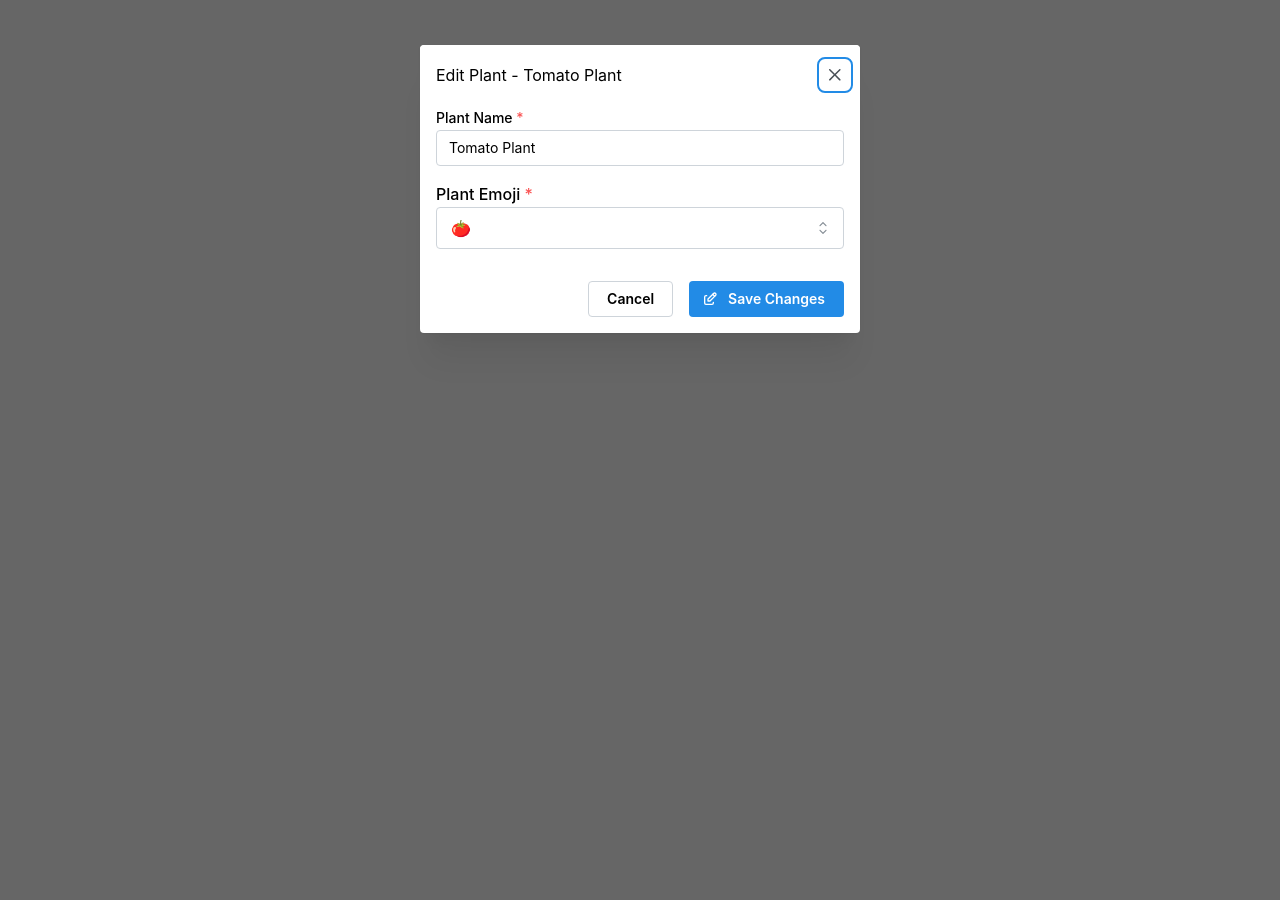
Test: PlantEditModal Component › Form Interaction › updates plant emoji from dropdown
Click the field with placeholder "Choose an emoji".
click(640, 228)  # box x1=436 y1=207 x2=844 y2=249
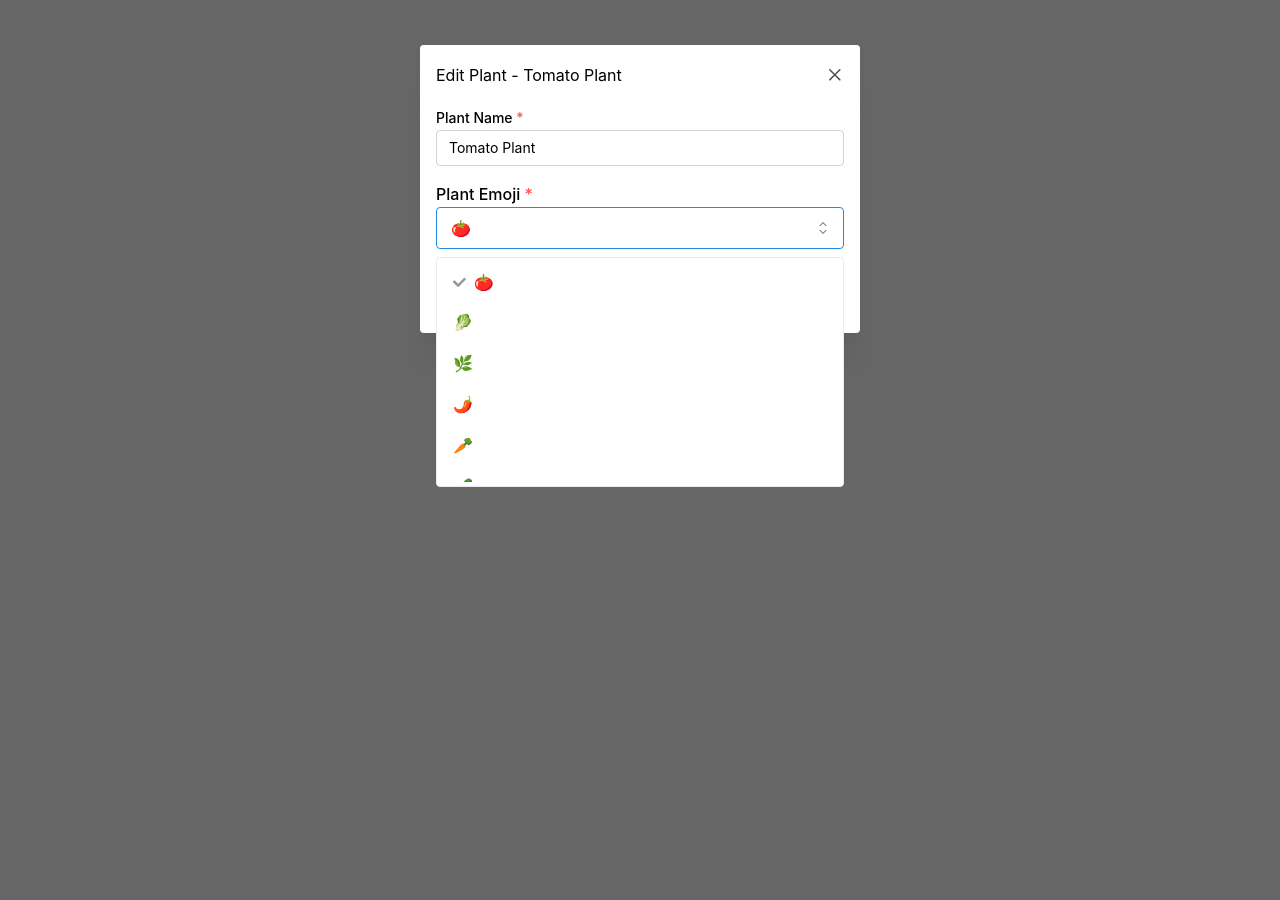
Expected: the text "🌿" is shown
Select a different emoji from the dropdown
Click the option "🌿".
click(463, 363)  # box x1=453 y1=353 x2=473 y2=373
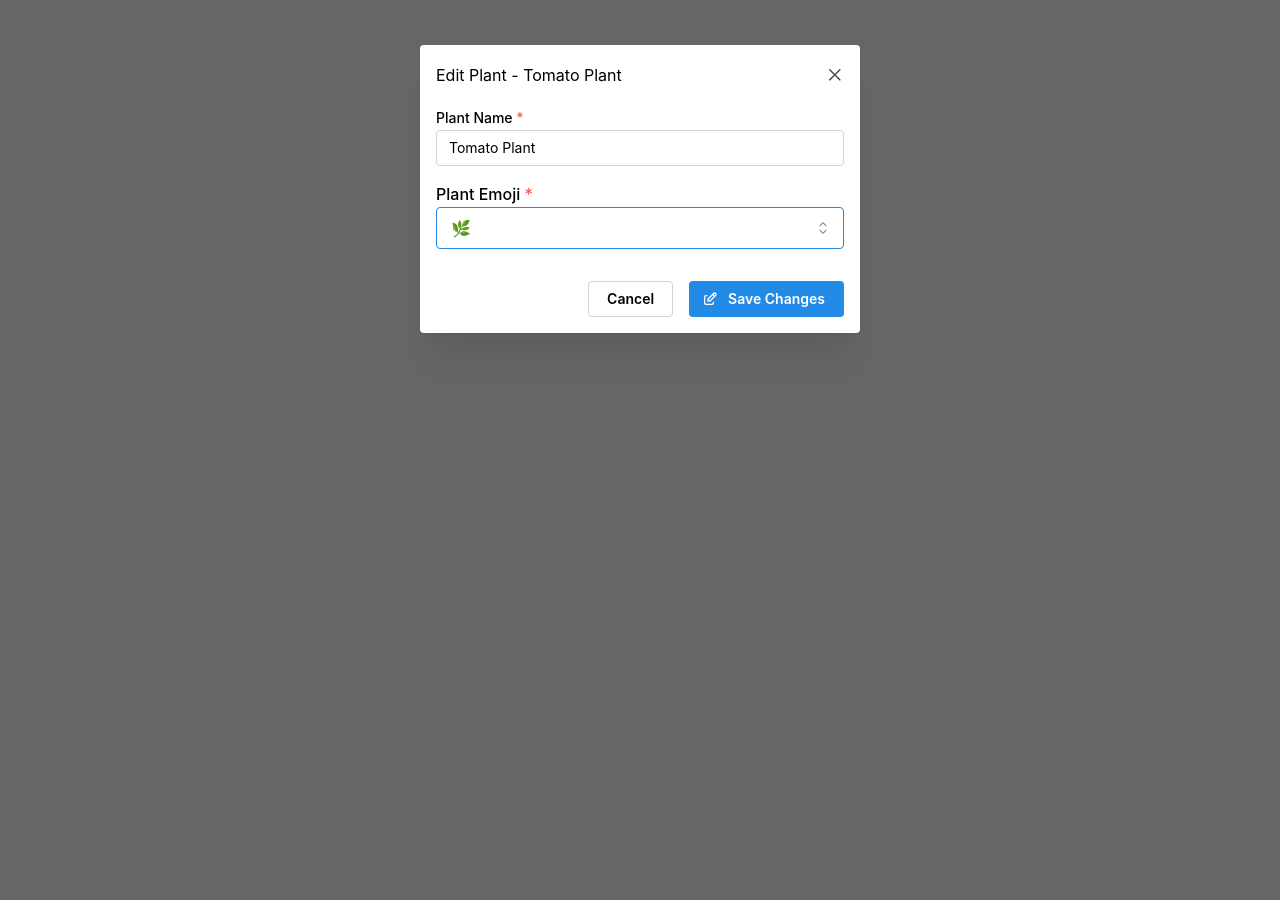
Expected: the field showing "🌿" is shown, x1=436 y1=207 x2=844 y2=249
